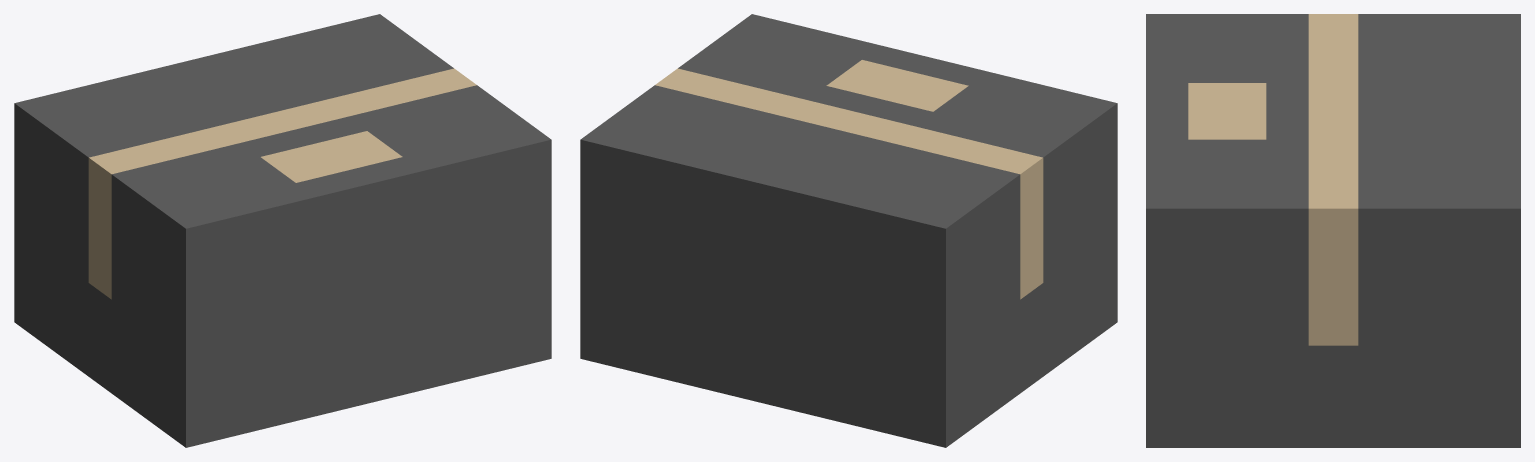
Rendered from package.fbx.
3 renders of one model, left to right at view 1: azimuth 30°, elevation 25°; view 2: azimuth 150°, elevation 25°; view 3: azimuth 270°, elevation 25°, orthographic. The views are drawn at different scales.
Visible parts, largest first — view 1: Package; view 2: Package; view 3: Package.
Boxes of the visible parts, <box> form: Package: <box>14,14,551,447</box>; Package: <box>580,14,1117,447</box>; Package: <box>1146,14,1520,447</box>.
Bounding box in the file's own units: 39.02 × 22.35 × 31.73.
